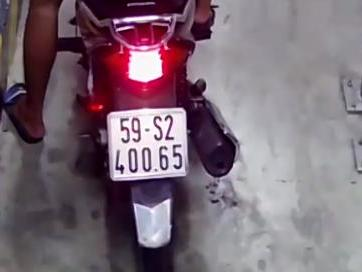num_plate: (105, 108, 190, 181)
